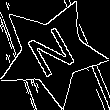N_SE: (21, 21, 82, 85)
